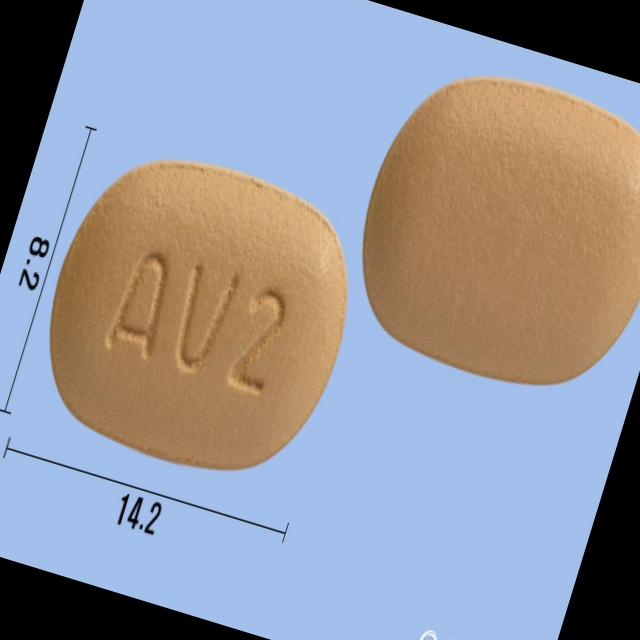Exviera: (14, 128, 382, 502)
